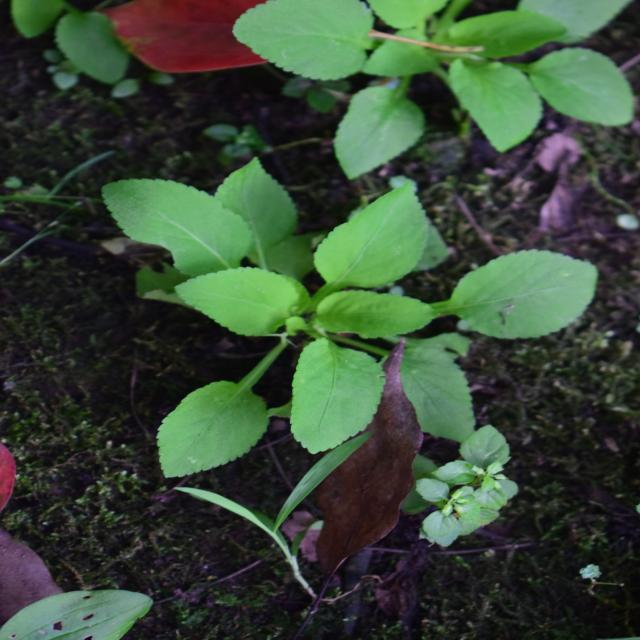Viola: (157, 72, 496, 519)
